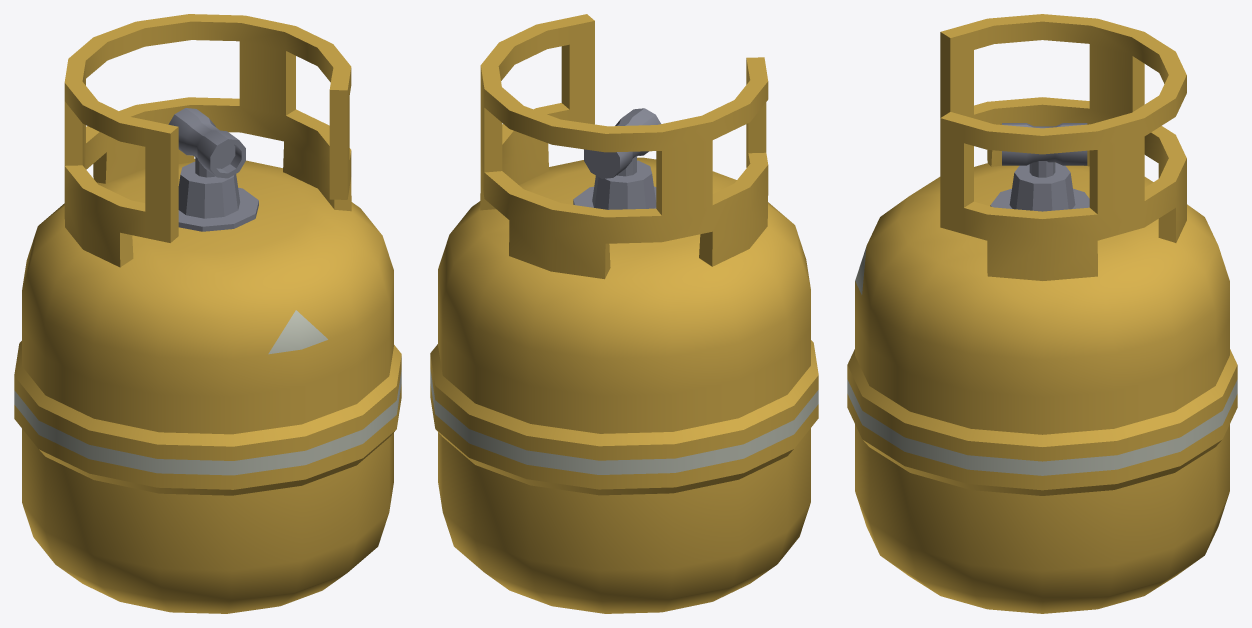
Rendered from GasTank.gltf.
The picture shows the model from 3 angles, left to right: view 1: azimuth 30°, elevation 25°; view 2: azimuth 150°, elevation 25°; view 3: azimuth 270°, elevation 25°; orthographic projection.
Parts seen in each view (by area): view 1: GasTank; view 2: GasTank; view 3: GasTank.
Boxes of the visible parts, x1,y1,x2,y2 form: GasTank: [14, 14, 401, 613]; GasTank: [430, 14, 818, 613]; GasTank: [847, 14, 1237, 613].
Size of the model in its own units: 1.01 by 1.39 by 1.01.
